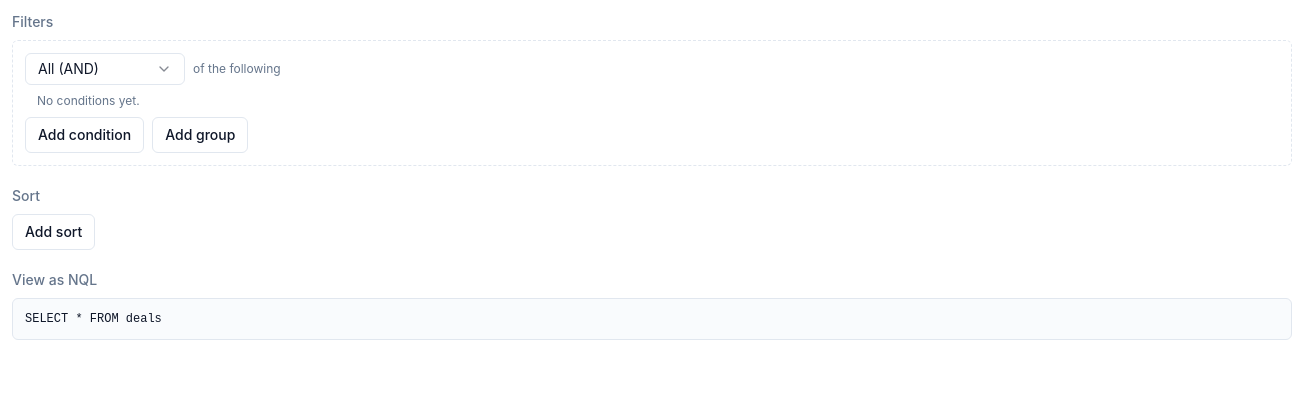
Test: QueryBuilder › adds a sort clause and shows ORDER BY
What coordinates should you click on to do the following:
click the button "Add sort"
I would click on:
 (54, 232)
Its box is left=12, top=214, right=95, bottom=250.
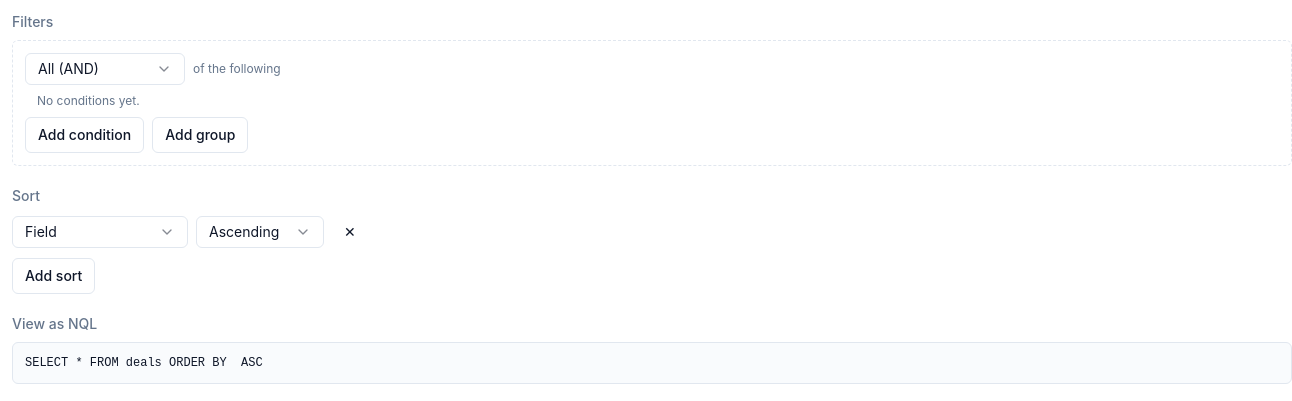
What coordinates should you click on to do the following:
click the dropdown named "Sort field 1"
I would click on:
 (100, 232)
Its box is left=12, top=216, right=188, bottom=248.
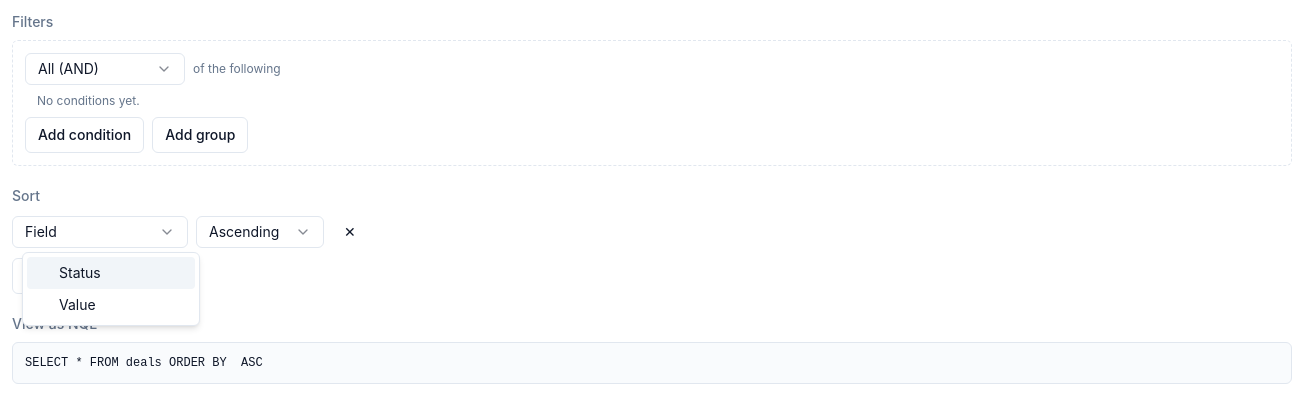
What coordinates should you click on to do the following:
click the option "Value"
I would click on:
 (77, 304)
Its box is left=59, top=296, right=96, bottom=313.
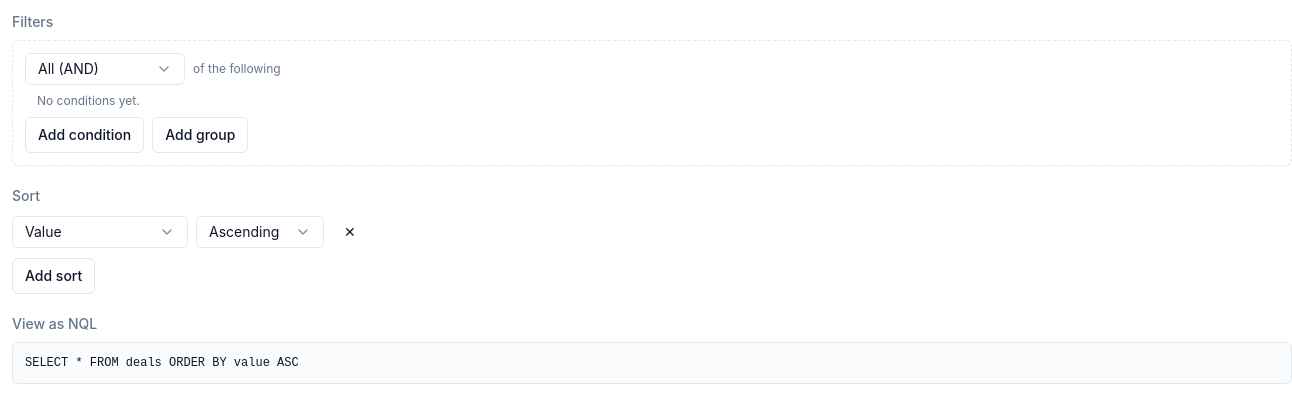
What coordinates should you click on to do the following:
click the dropdown named "Sort direction 1"
I would click on:
 (260, 232)
Its box is left=196, top=216, right=324, bottom=248.
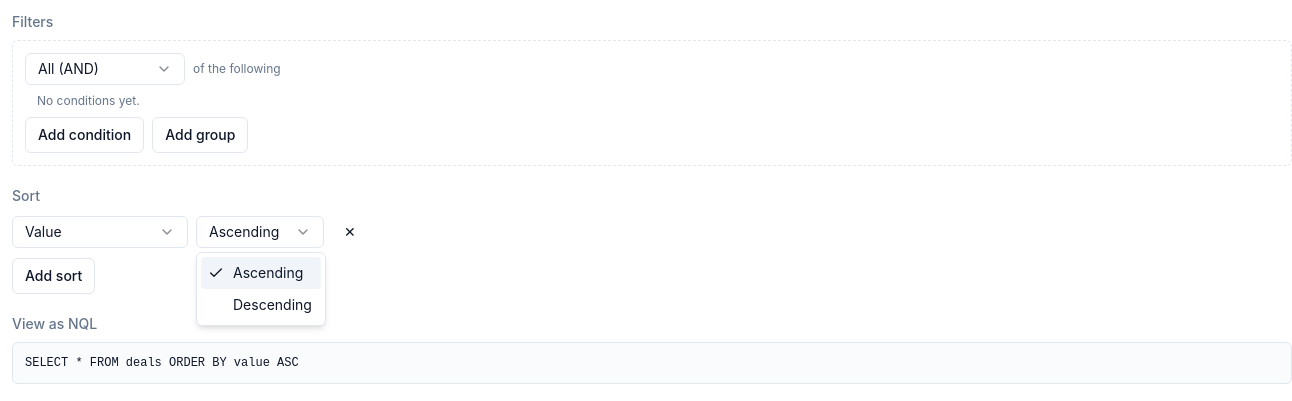
What coordinates should you click on to do the following:
click the option "Descending"
I would click on:
 (272, 304)
Its box is left=233, top=296, right=312, bottom=313.
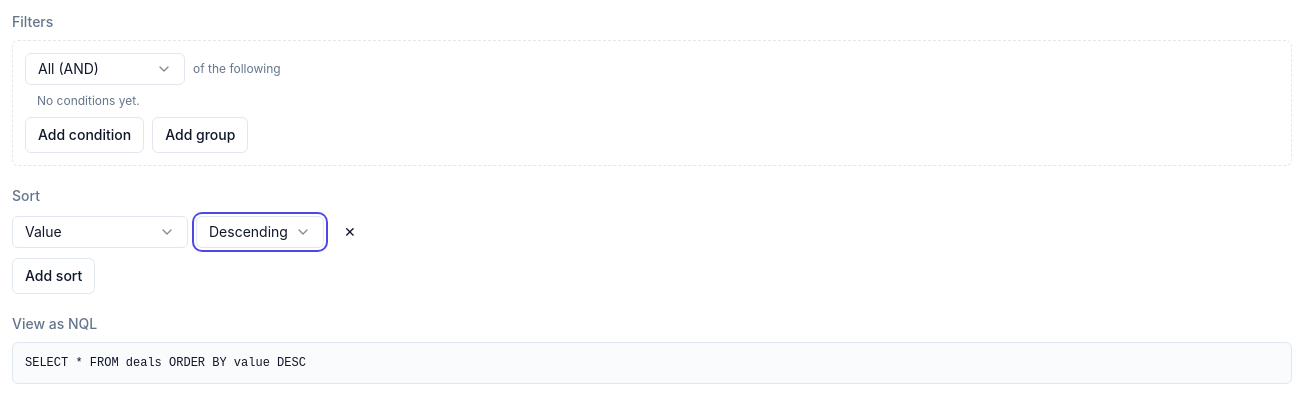
Check: the text named "NQL preview" reads "SELECT * FROM deals ORDER BY value DESC", box left=25, top=356, right=306, bottom=370
What coordinates should you click on to do the following:
click the button named "Remove sort 1"
I would click on:
 (350, 232)
Its box is left=332, top=214, right=368, bottom=250.
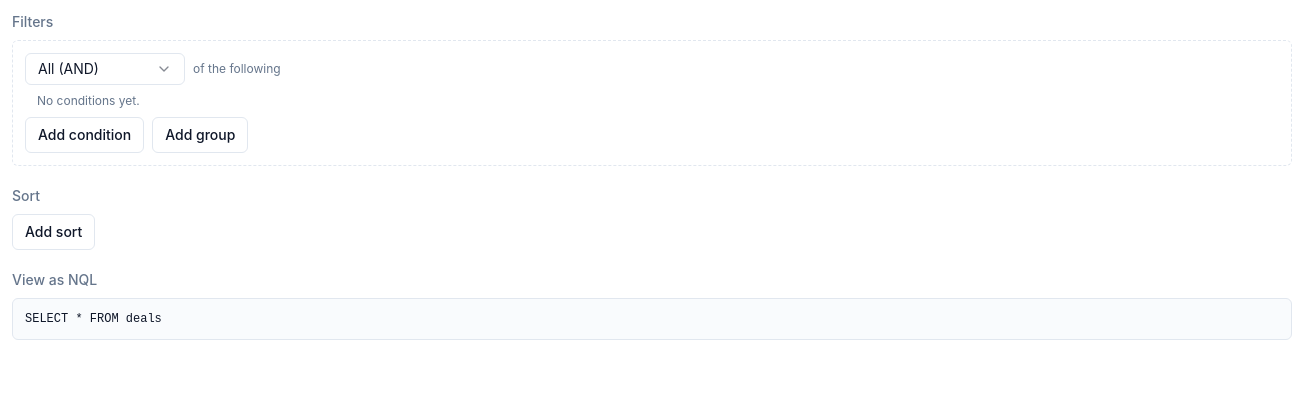
Check: the text named "NQL preview" reads "SELECT * FROM deals", box left=25, top=312, right=162, bottom=326
